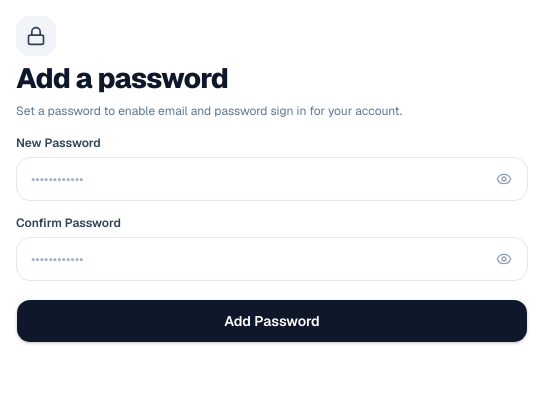
Test: AddPasswordForm › shows validation error when passwords do not match
Type "StrongPass123!" into the password field labelled "New Password" at (272, 179), box [16,157,528,201]
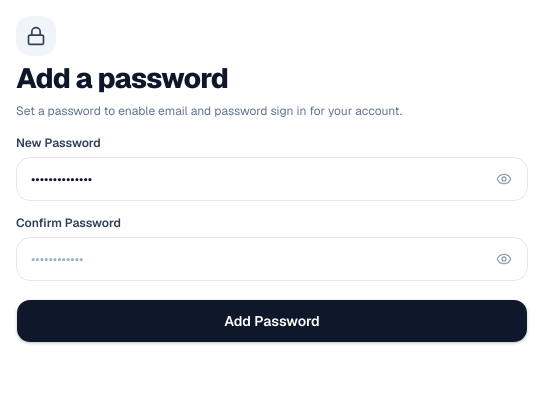
Type "DifferentPass123!" into the password field labelled "Confirm Password" at (272, 259), box [16,237,528,281]
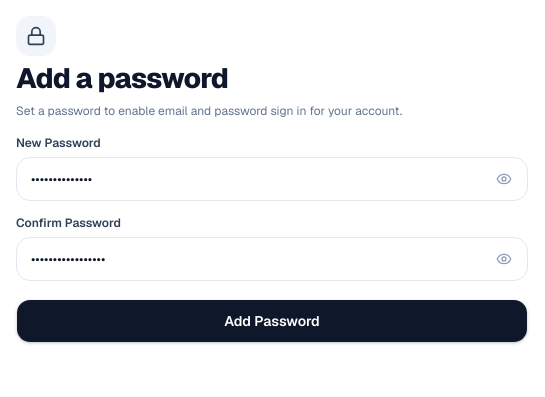
Click the button "Add Password" at (272, 321), box [16,299,528,343]
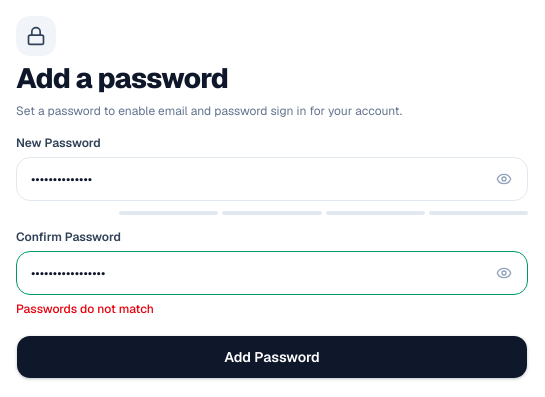
Check: the text "Passwords do not match" is shown, box [16,301,154,317]
